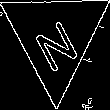N_NW: (29, 5, 82, 70)
